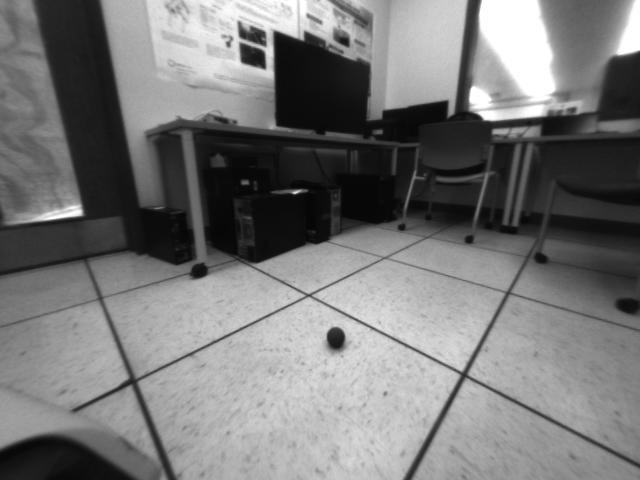dogtoy: (321, 323, 356, 356)
